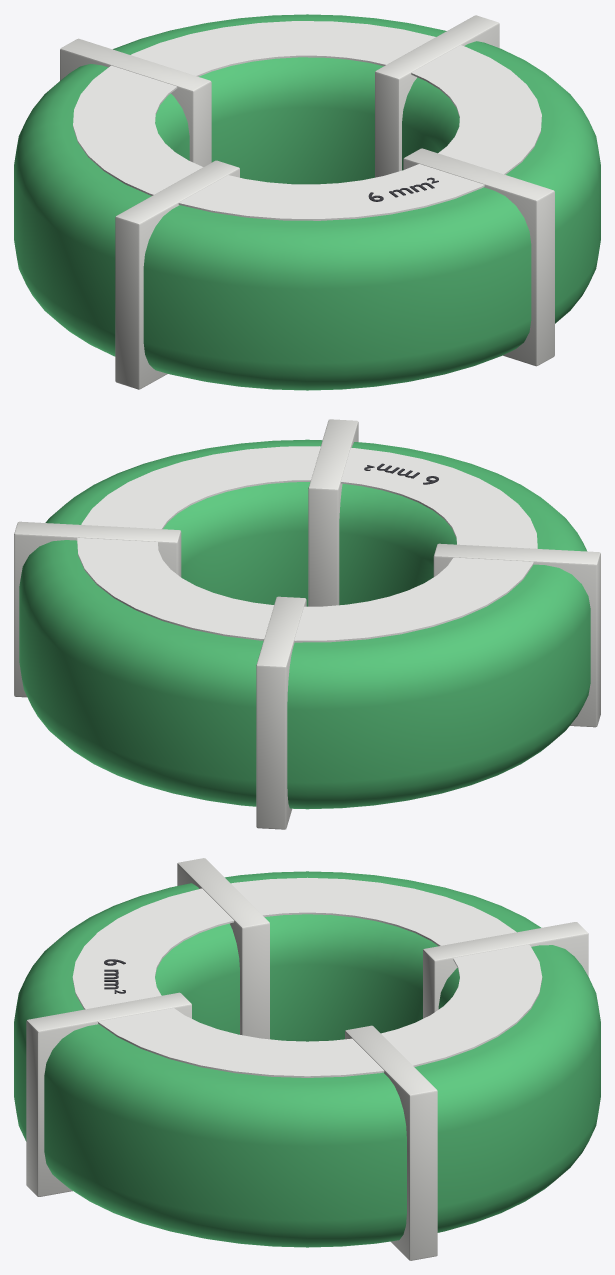
The model's file is ELE-FIO-004.glb.
3 views of the same model, one above another, from view 1: azimuth 30°, elevation 25°; view 2: azimuth 150°, elevation 25°; view 3: azimuth 270°, elevation 25° (orthographic).
Visible parts, largest first — view 1: ELE-FIO-004_rolo, ELE-FIO-004_etiqueta, ELE-FIO-004_fita2, ELE-FIO-004_fita3, ELE-FIO-004_fita0, ELE-FIO-004_fita1; view 2: ELE-FIO-004_rolo, ELE-FIO-004_etiqueta, ELE-FIO-004_fita1, ELE-FIO-004_fita3, ELE-FIO-004_fita2, ELE-FIO-004_fita0; view 3: ELE-FIO-004_rolo, ELE-FIO-004_etiqueta, ELE-FIO-004_fita0, ELE-FIO-004_fita3, ELE-FIO-004_fita2, ELE-FIO-004_fita1.
Boxes of the visible parts, x1=… form: ELE-FIO-004_rolo: x1=14, y1=14, x2=600, y2=390; ELE-FIO-004_etiqueta: x1=73, y1=21, x2=541, y2=220; ELE-FIO-004_fita2: x1=115, y1=160, x2=239, y2=389; ELE-FIO-004_fita3: x1=403, y1=148, x2=554, y2=366; ELE-FIO-004_fita0: x1=375, y1=15, x2=499, y2=177; ELE-FIO-004_fita1: x1=60, y1=38, x2=211, y2=166; ELE-FIO-004_rolo: x1=19, y1=439, x2=590, y2=809; ELE-FIO-004_etiqueta: x1=77, y1=446, x2=537, y2=642; ELE-FIO-004_fita1: x1=256, y1=596, x2=306, y2=829; ELE-FIO-004_fita3: x1=308, y1=419, x2=358, y2=606; ELE-FIO-004_fita2: x1=433, y1=543, x2=600, y2=727; ELE-FIO-004_fita0: x1=14, y1=521, x2=181, y2=697; ELE-FIO-004_rolo: x1=14, y1=871, x2=600, y2=1247; ELE-FIO-004_etiqueta: x1=72, y1=877, x2=542, y2=1077; ELE-FIO-004_fita0: x1=345, y1=1025, x2=437, y2=1260; ELE-FIO-004_fita3: x1=26, y1=992, x2=191, y2=1196; ELE-FIO-004_fita2: x1=177, y1=858, x2=269, y2=1039; ELE-FIO-004_fita1: x1=423, y1=922, x2=588, y2=1018.
Size of the model in its own units: 0.3 by 0.094 by 0.3.
